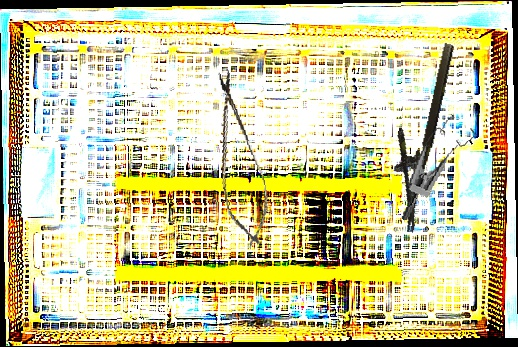Micro Scissor: (201, 67, 277, 251)
Needle Holder: (376, 37, 457, 233)
Speculum: (399, 108, 480, 231)
